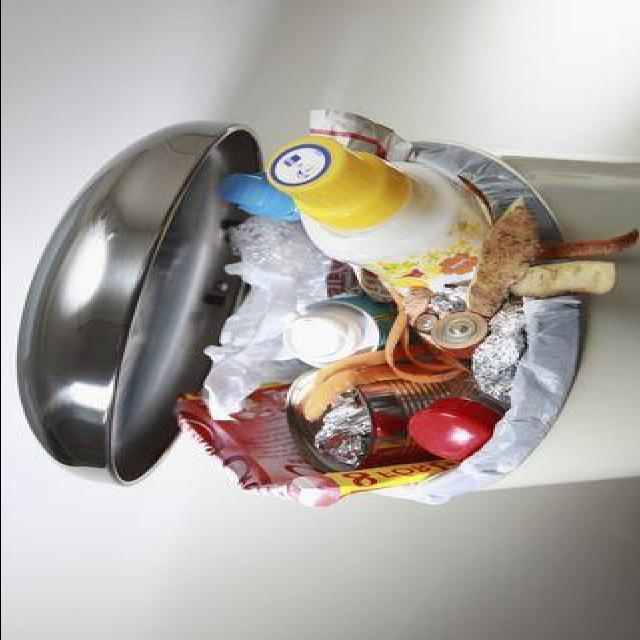Garbage: (178, 110, 636, 506)
Metal: (471, 299, 526, 402), (431, 311, 488, 349)
Plastic_Bag: (202, 216, 333, 419)
Plastic_Container: (266, 136, 488, 291), (287, 296, 395, 366), (407, 399, 500, 461), (219, 174, 297, 220)
tin_box: (287, 371, 473, 471)
